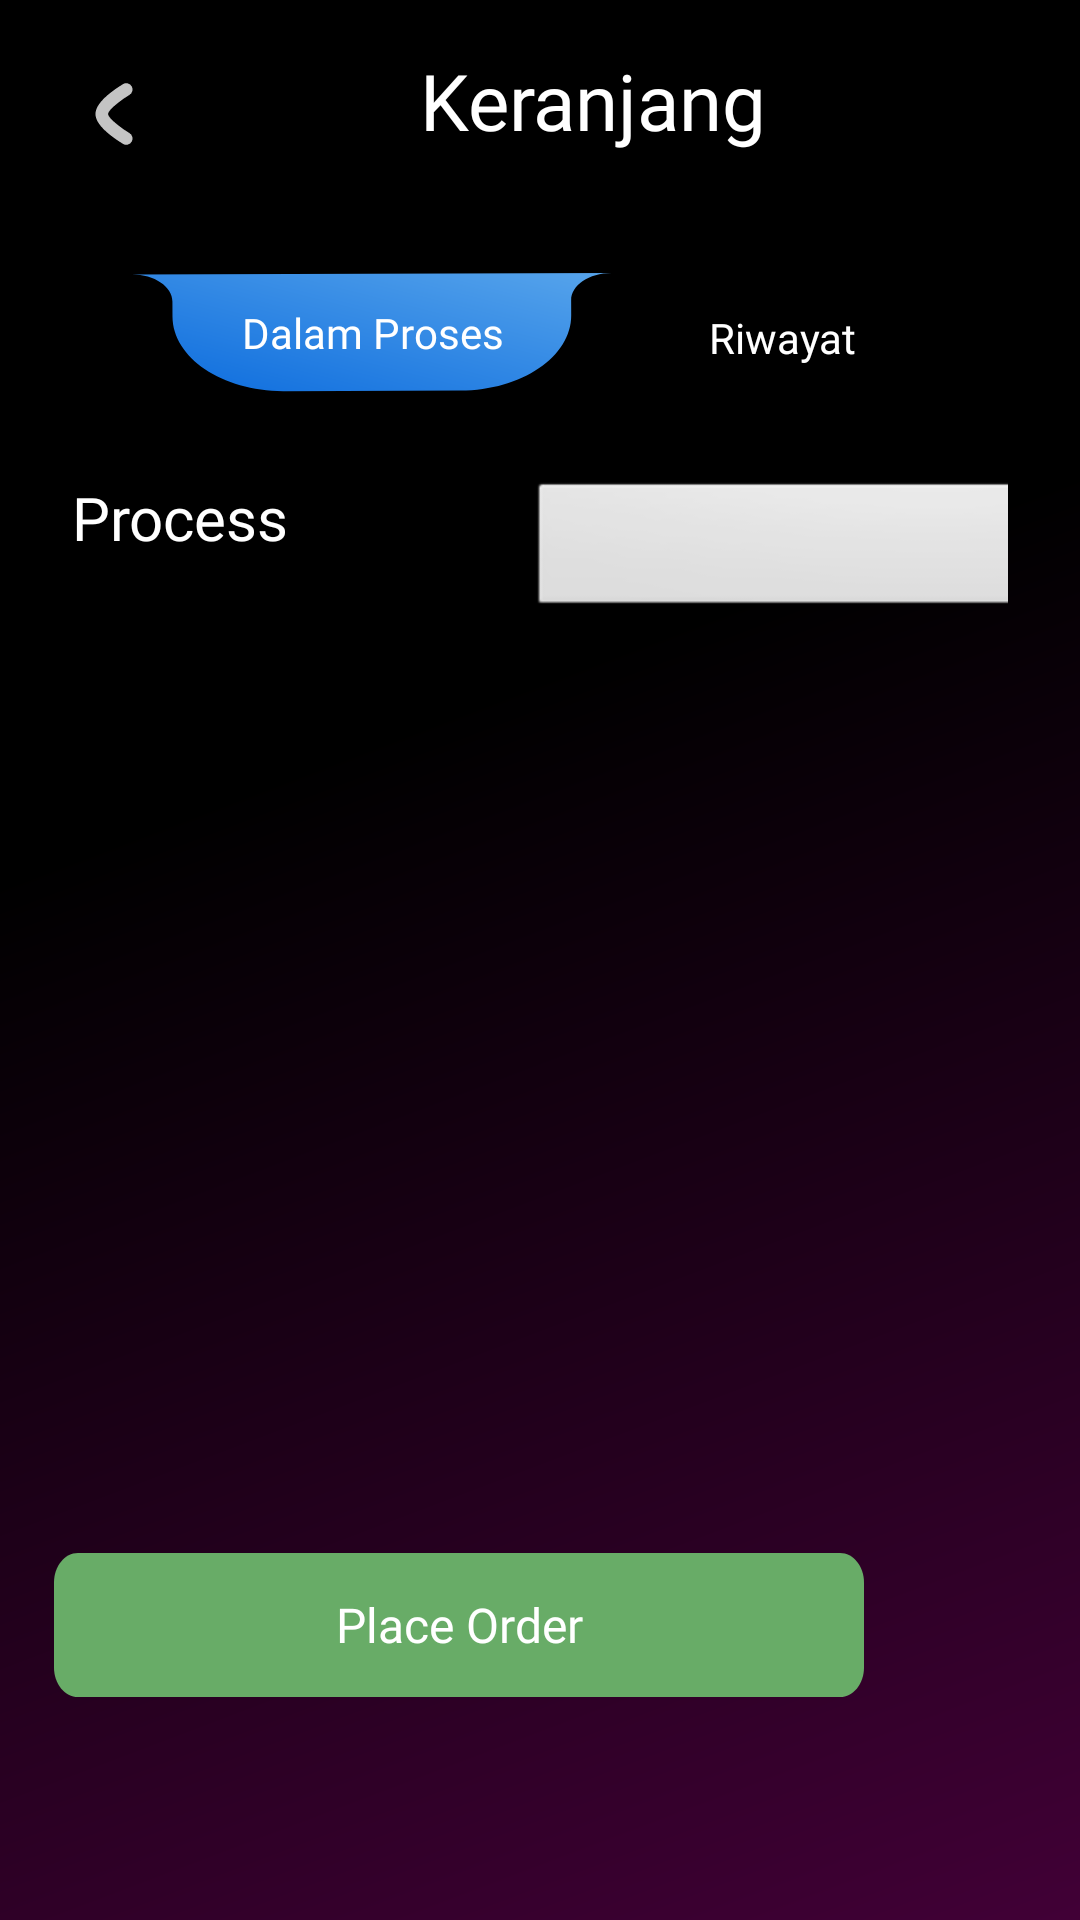

Icon click points for this 1080×1920 phone screenshot, format (x=x, y=y):
back: (x=114, y=114)
